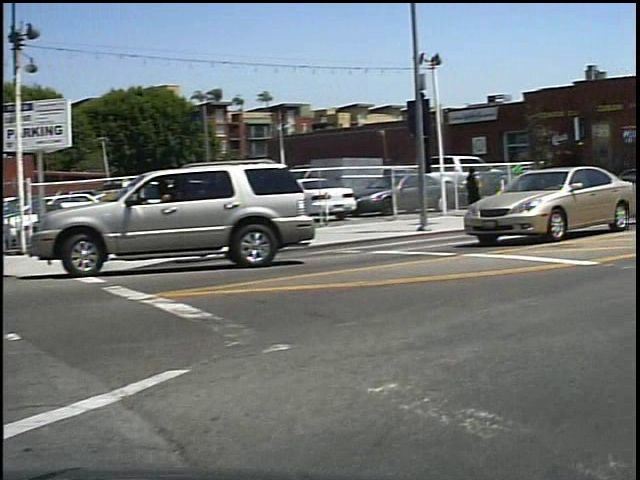person: (470, 163, 496, 221)
